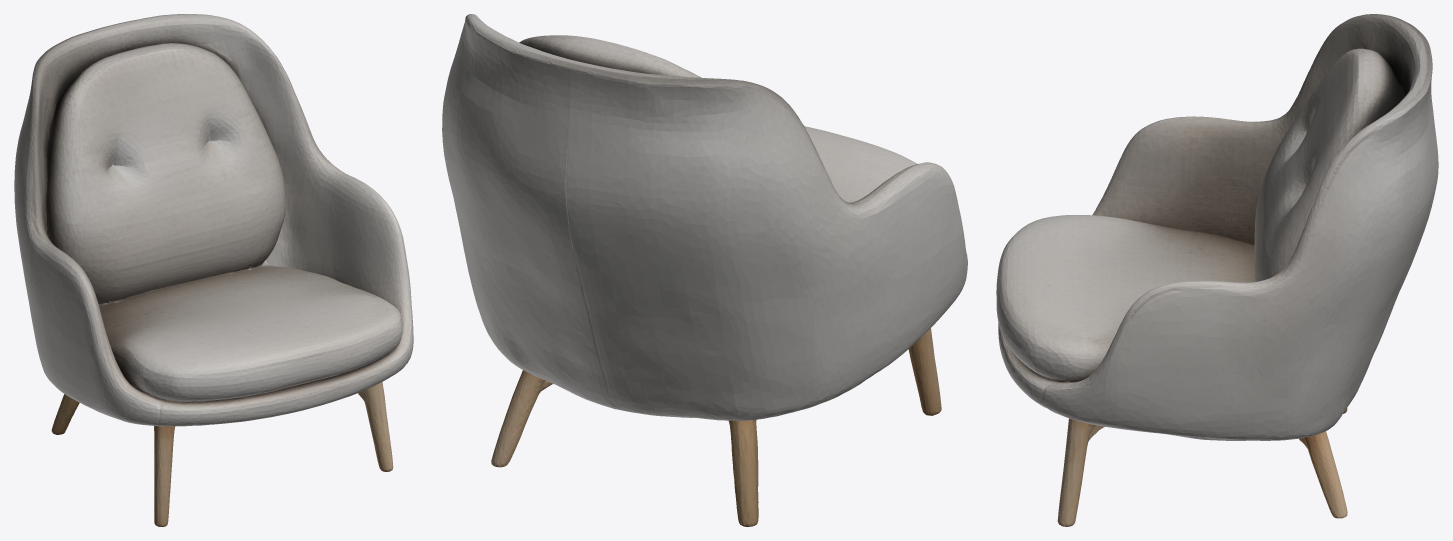
File: taza2.glb
3 renders of one model, left to right at view 1: azimuth 30°, elevation 25°; view 2: azimuth 150°, elevation 25°; view 3: azimuth 270°, elevation 25°, orthographic. The views are drawn at different scales.
Visible parts, largest first — view 1: world; view 2: world; view 3: world.
Part boxes in pixels (bbox=[...]): world: bbox=[14, 14, 413, 526]; world: bbox=[442, 14, 967, 526]; world: bbox=[996, 14, 1438, 526].
Size of the model in its own units: 0.9348 by 1 by 0.9987.
1 material, 1 textured.
